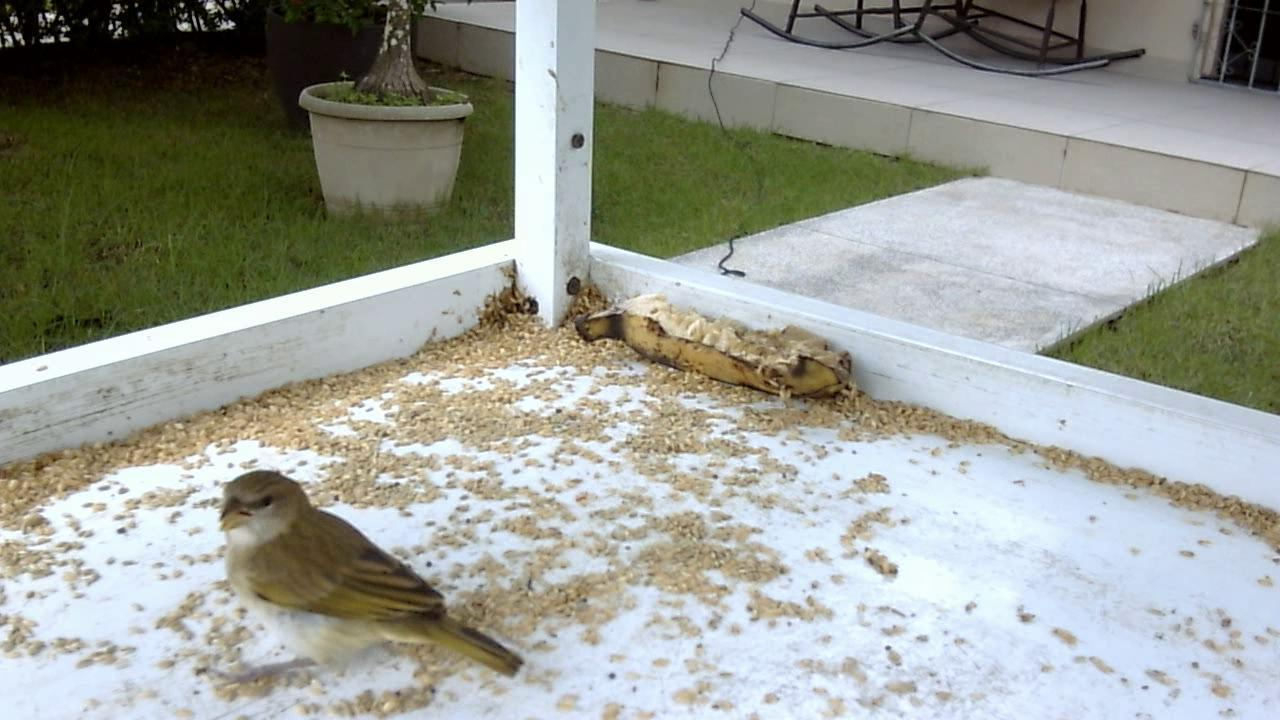canario_do_amazonas: (206, 466, 532, 697)
